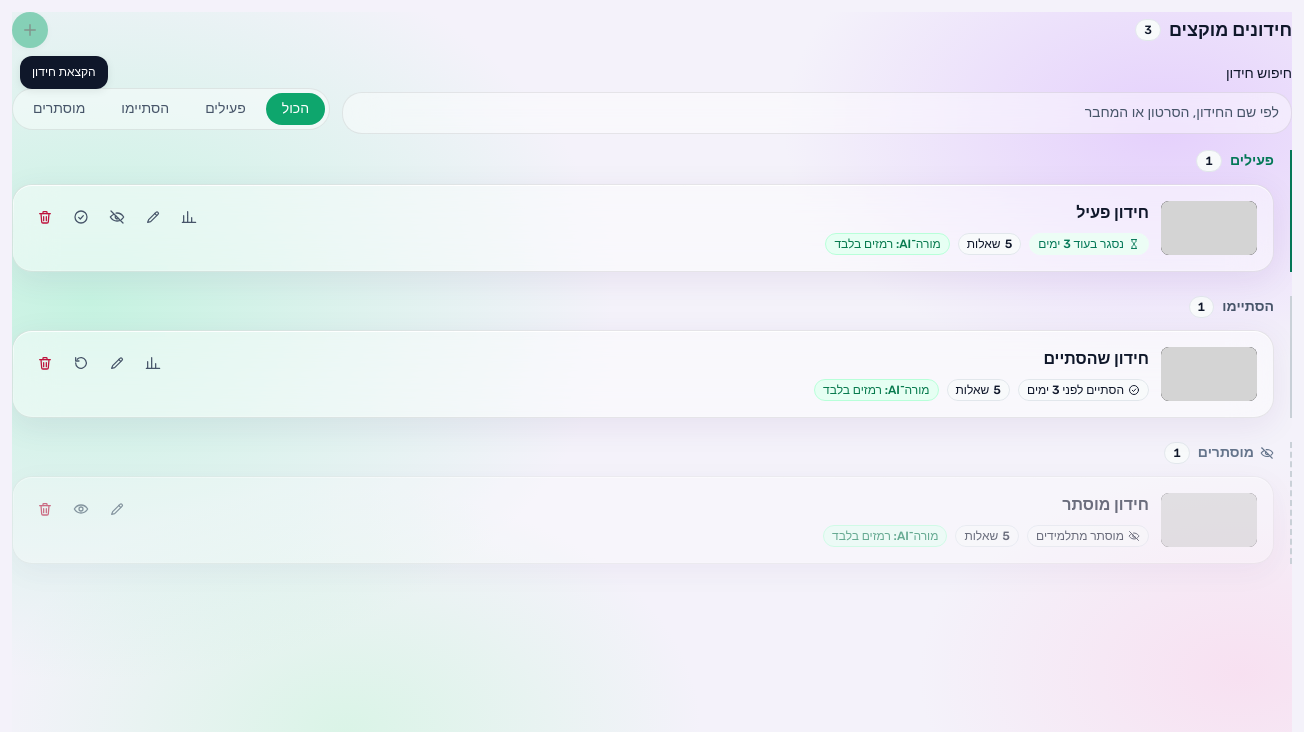
AssignedQuizzesSection search and filter › searches across every section at once
Type "מוסתר" into the field labelled "חיפוש חידון". click: [817, 113]
box: [342,92,1292,134]
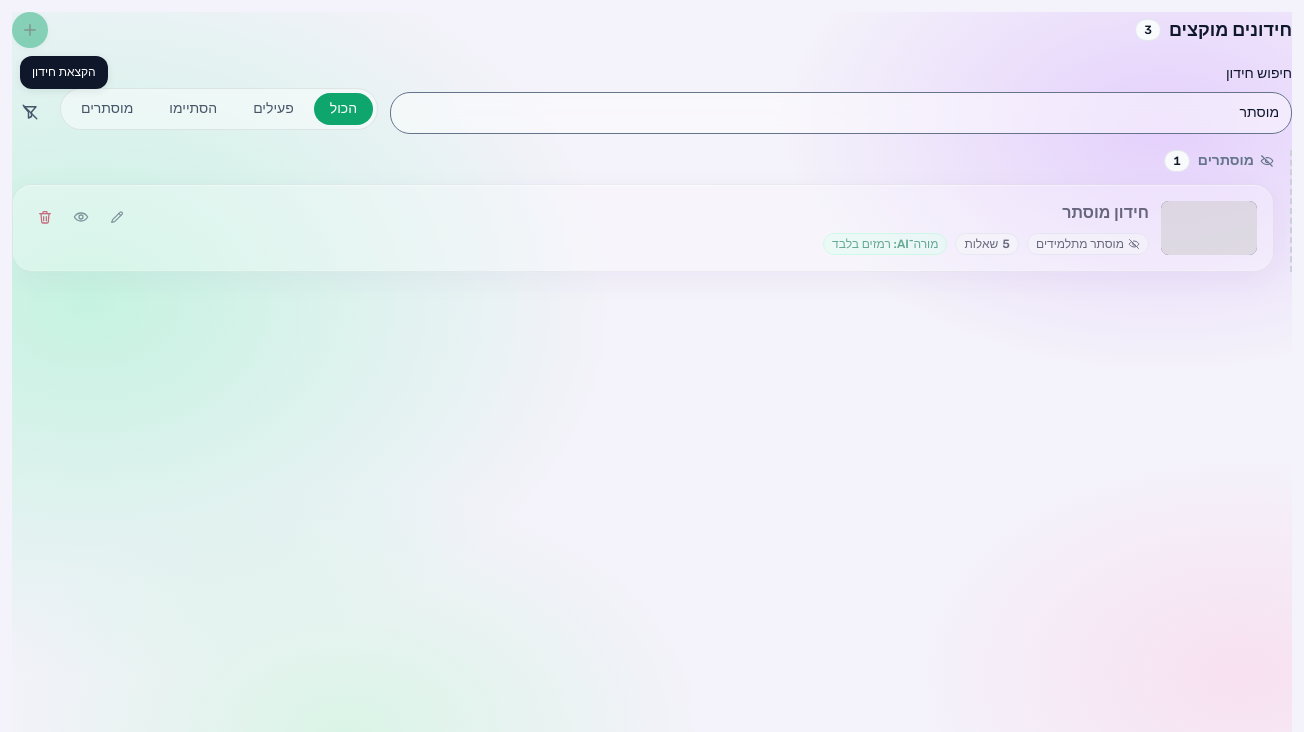
Expected: the heading "חידון מוסתר" is shown, [1062,203,1149,222]
Now the heading "חידון פעיל" is gone
